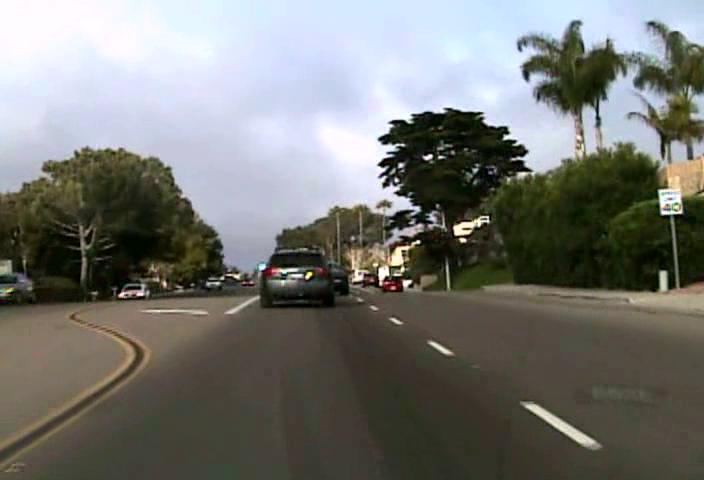speedLimit40: (658, 187, 683, 216)
